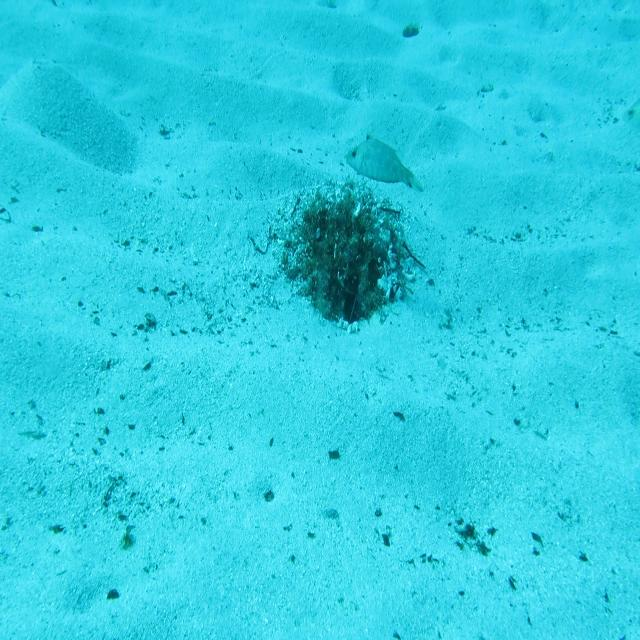UP: (344, 124, 425, 198)
nest: (284, 176, 432, 324)
